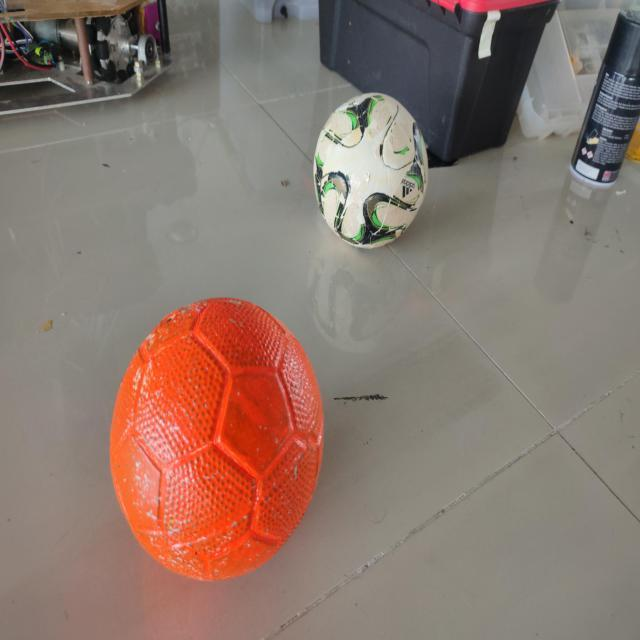bola: (102, 290, 328, 586)
